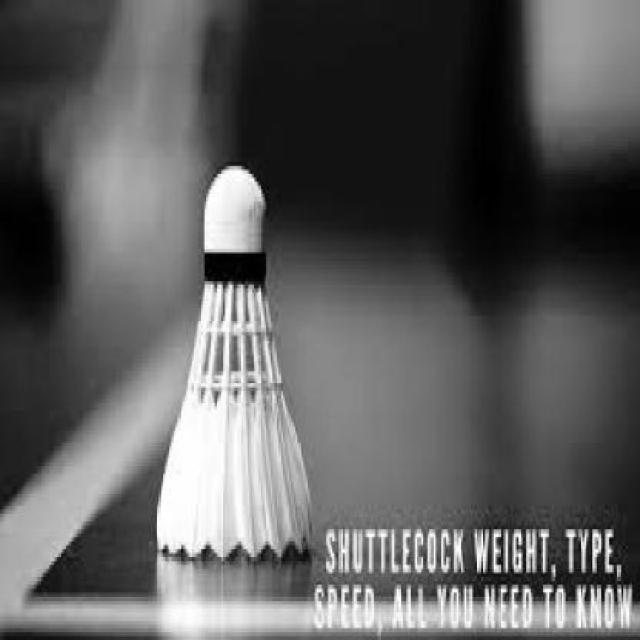Shuttlecock: (155, 165, 310, 559)
